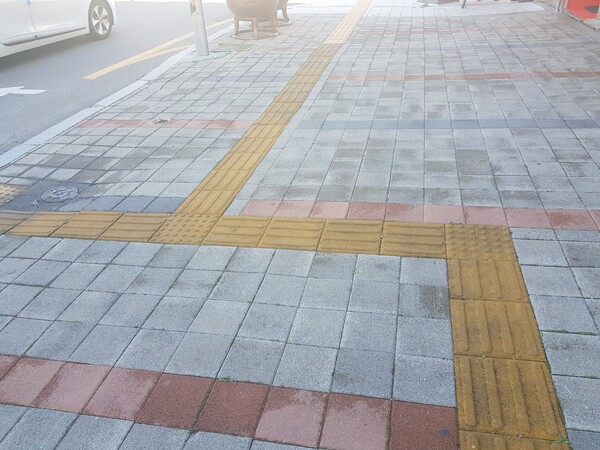guide_blocks: (5, 212, 513, 258), (448, 258, 569, 450), (183, 152, 258, 208), (242, 102, 299, 150), (273, 62, 323, 100), (309, 28, 350, 65), (343, 1, 371, 24), (1, 183, 24, 203)
